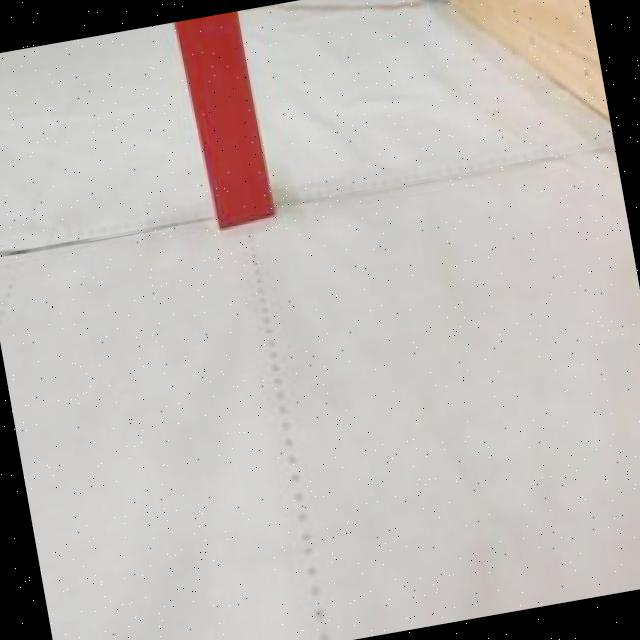redbox: (170, 10, 273, 229)
